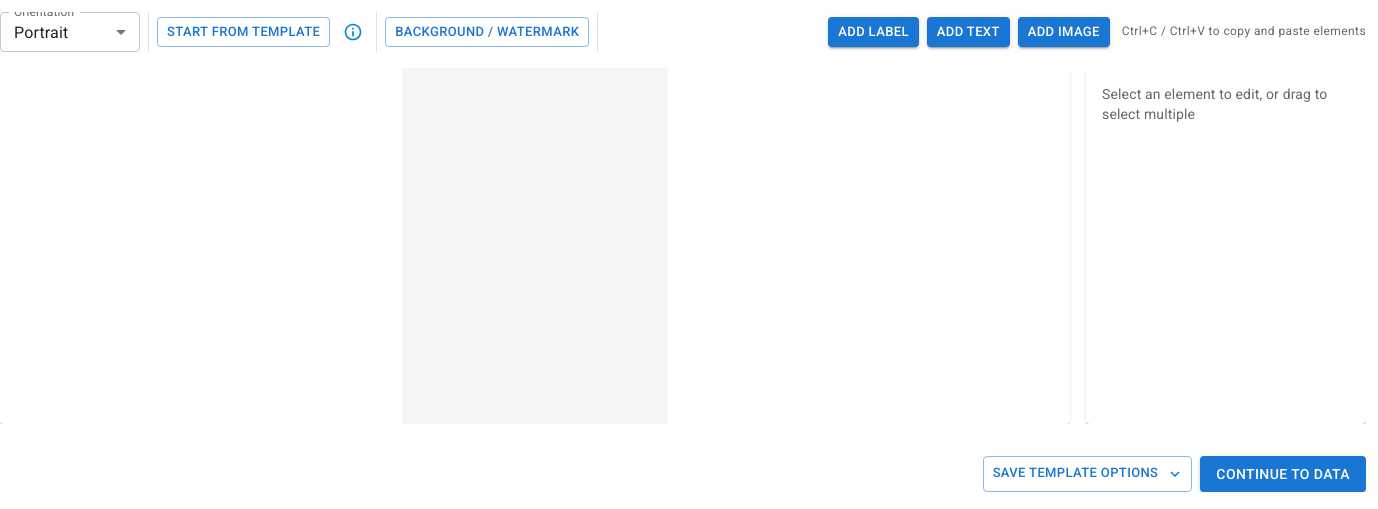
Test: DesignStep — background/watermark panel › toggles between the element properties panel and the background/watermark panel
Check: the text "Select an element to edit, or drag to select multiple" is shown, box [1102,84,1350,124]
Click the button "Background / Watermark" at point(487, 32), box [385,17,589,47]
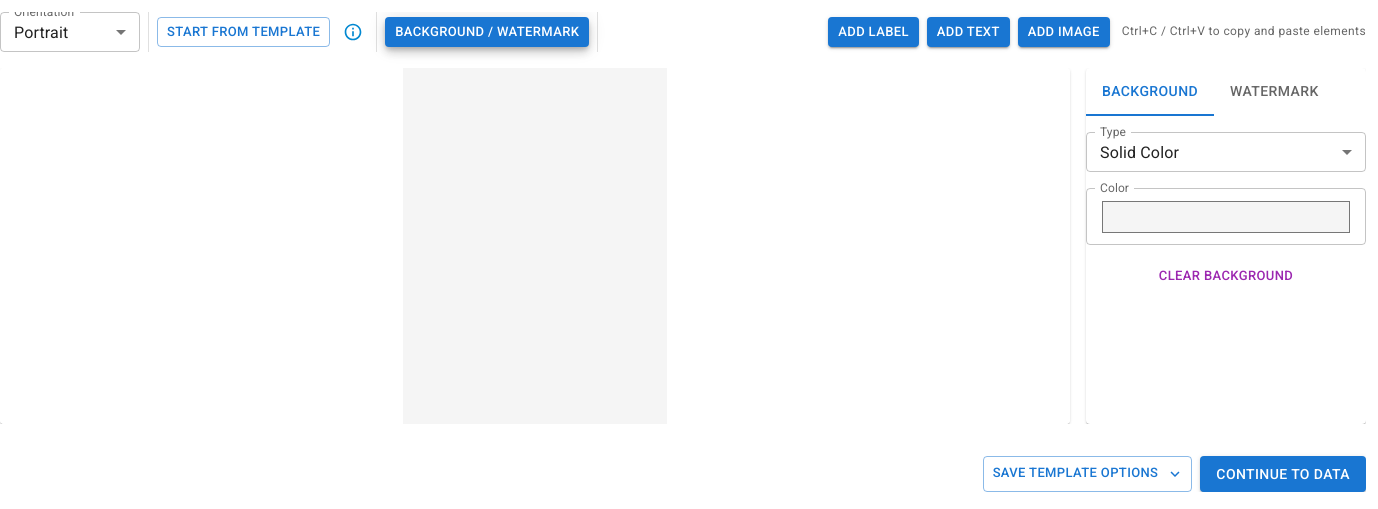
Check: the tab "Background" is shown, box [1086,68,1214,116]
Check: the text "Select an element to edit, or drag to select multiple" is gone
Click the button "Background / Watermark" at point(487, 32), box [385,17,589,47]
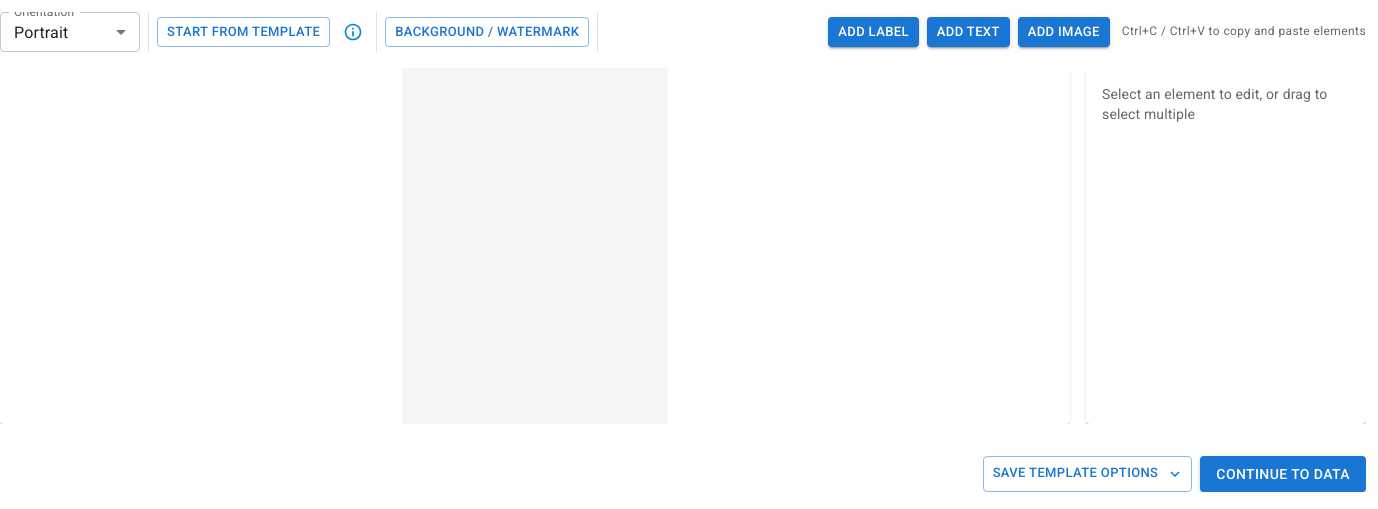
Check: the text "Select an element to edit, or drag to select multiple" is shown, box [1102,84,1350,124]
